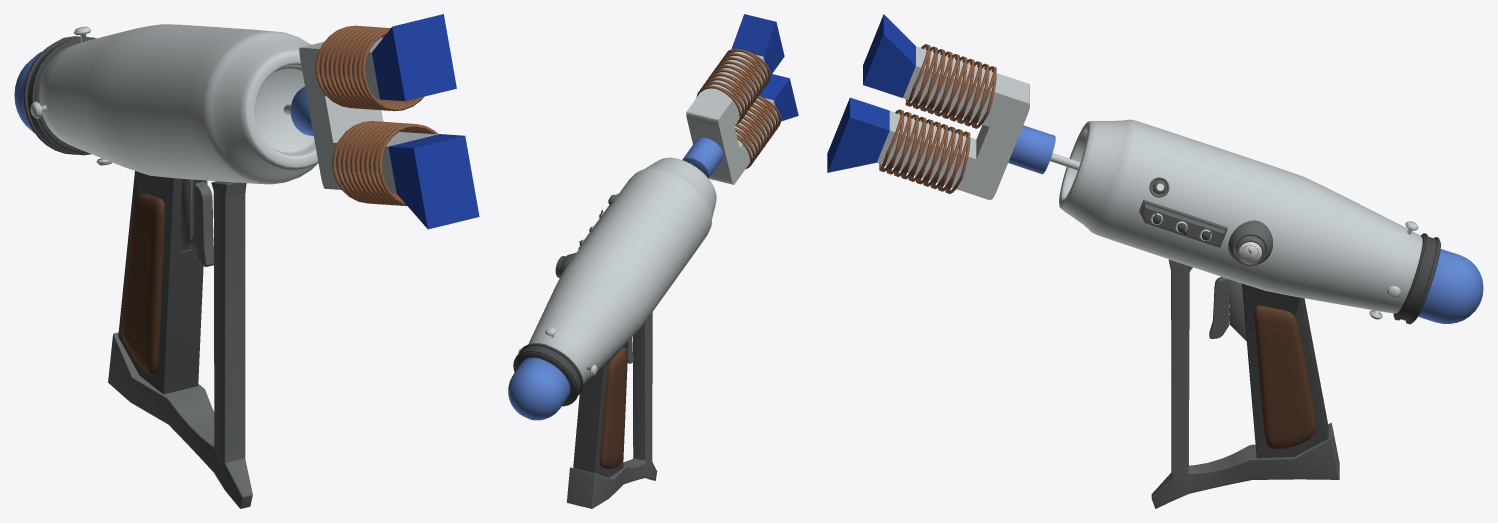
The model's file is PistolaS.fbx.
The picture shows the model from 3 angles, left to right: view 1: azimuth 30°, elevation 25°; view 2: azimuth 150°, elevation 25°; view 3: azimuth 270°, elevation 25°; orthographic projection. The views are drawn at different scales.
Visible parts, largest first — view 1: Pistola S; view 2: Pistola S; view 3: Pistola S.
Part boxes in pixels (x1,y1,x2,y2): Pistola S: [14, 14, 479, 508]; Pistola S: [508, 14, 798, 508]; Pistola S: [827, 14, 1483, 508].
Bounding box in the file's own units: 80.07 × 307 × 378.
